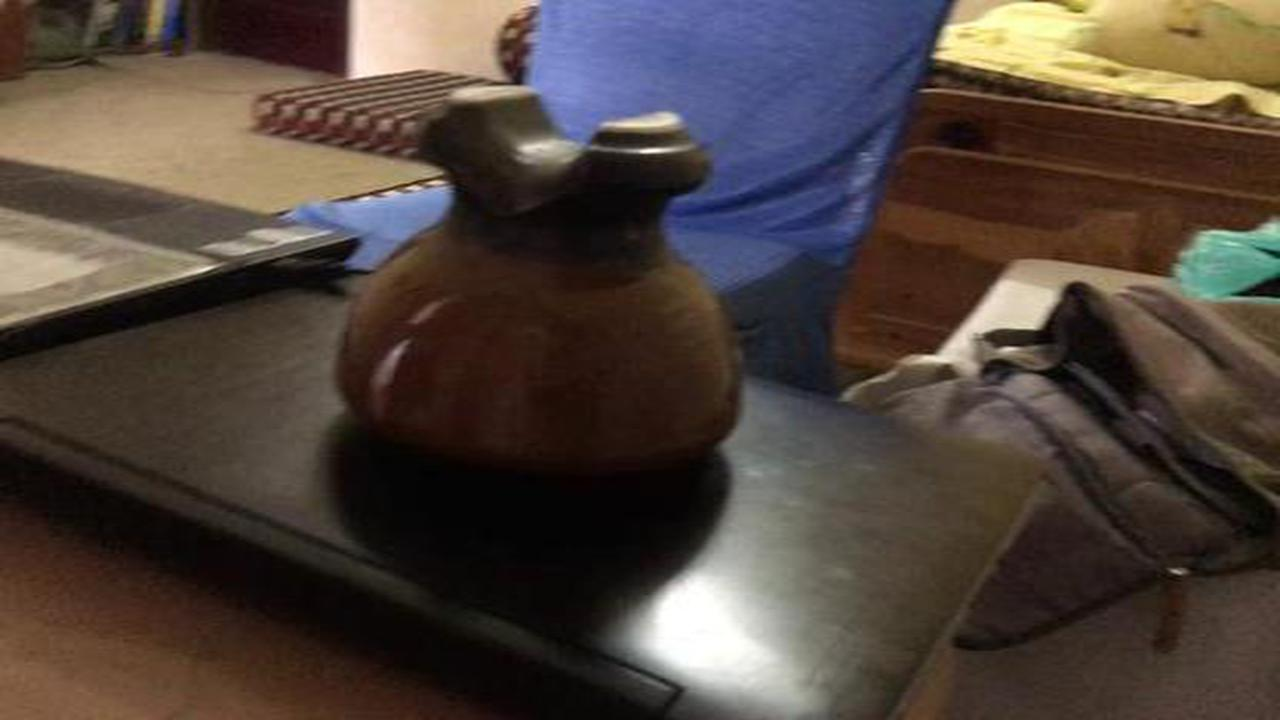insulator_pin: (317, 64, 767, 506)
